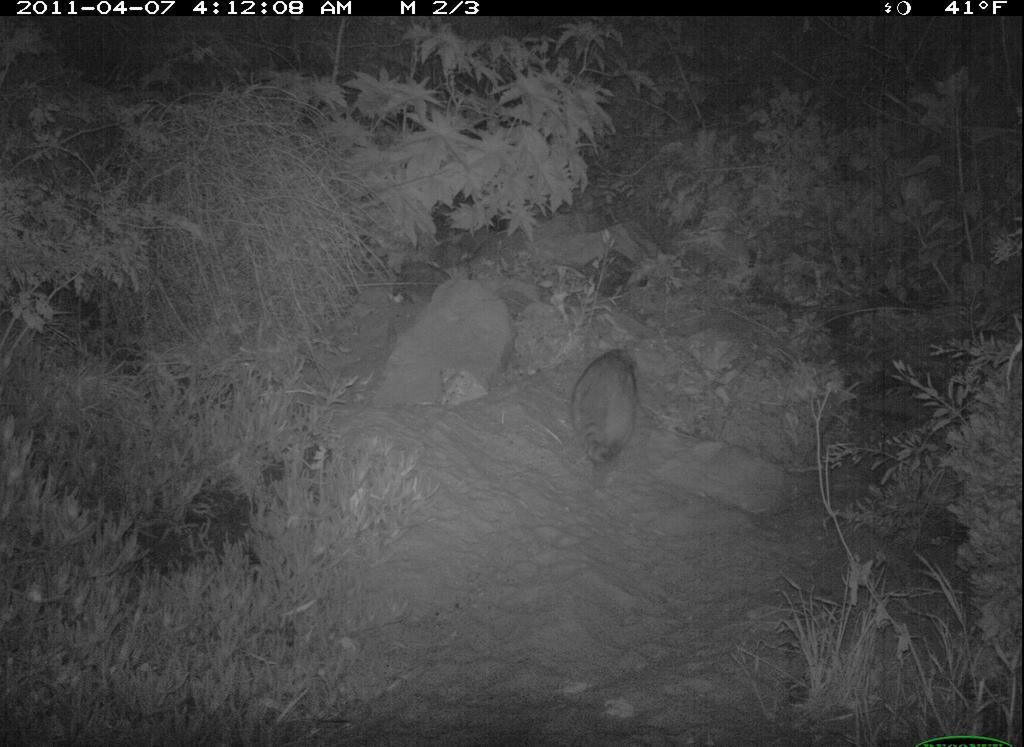raccoon: (569, 344, 643, 475)
